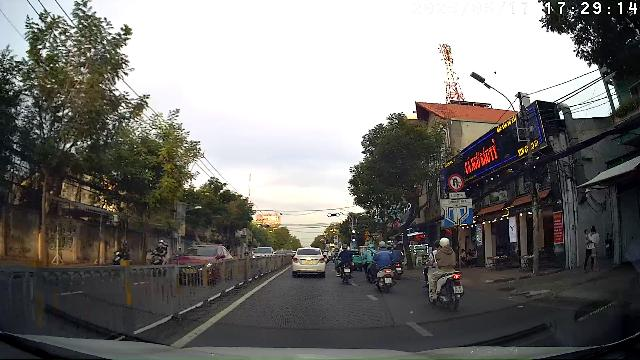124b-cam-oto-quay-dau-xe: (448, 174, 464, 190)
